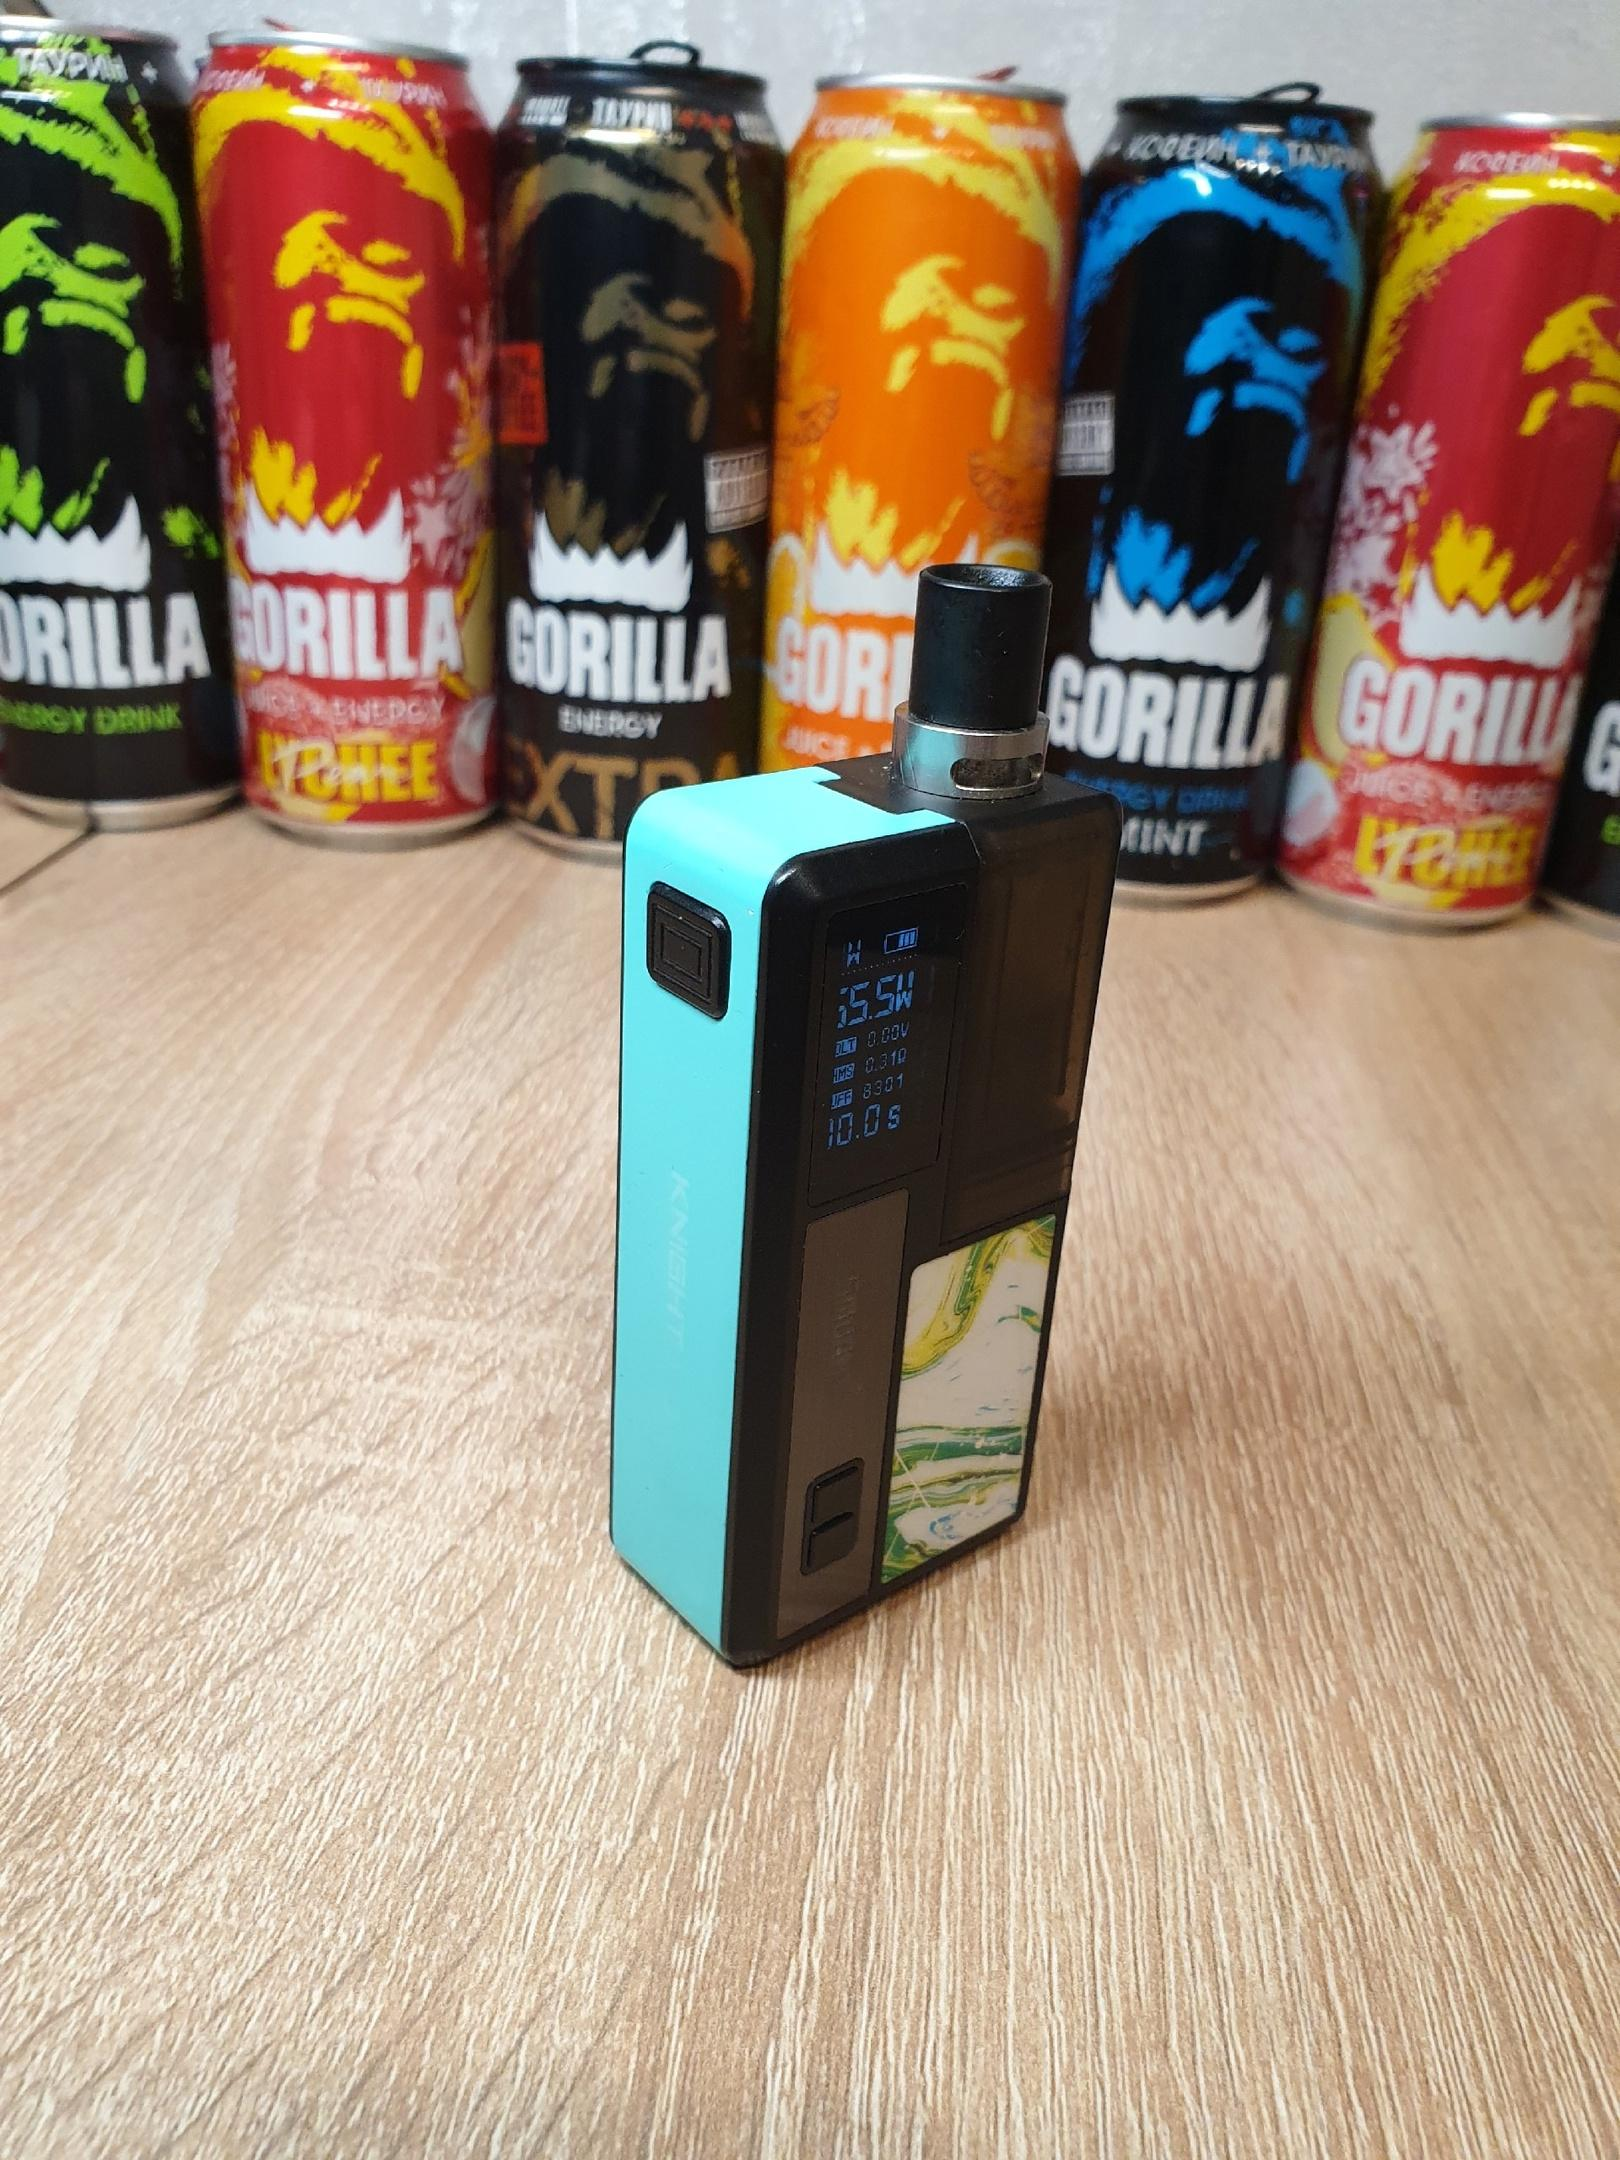Vape: (611, 565, 1120, 1667)
